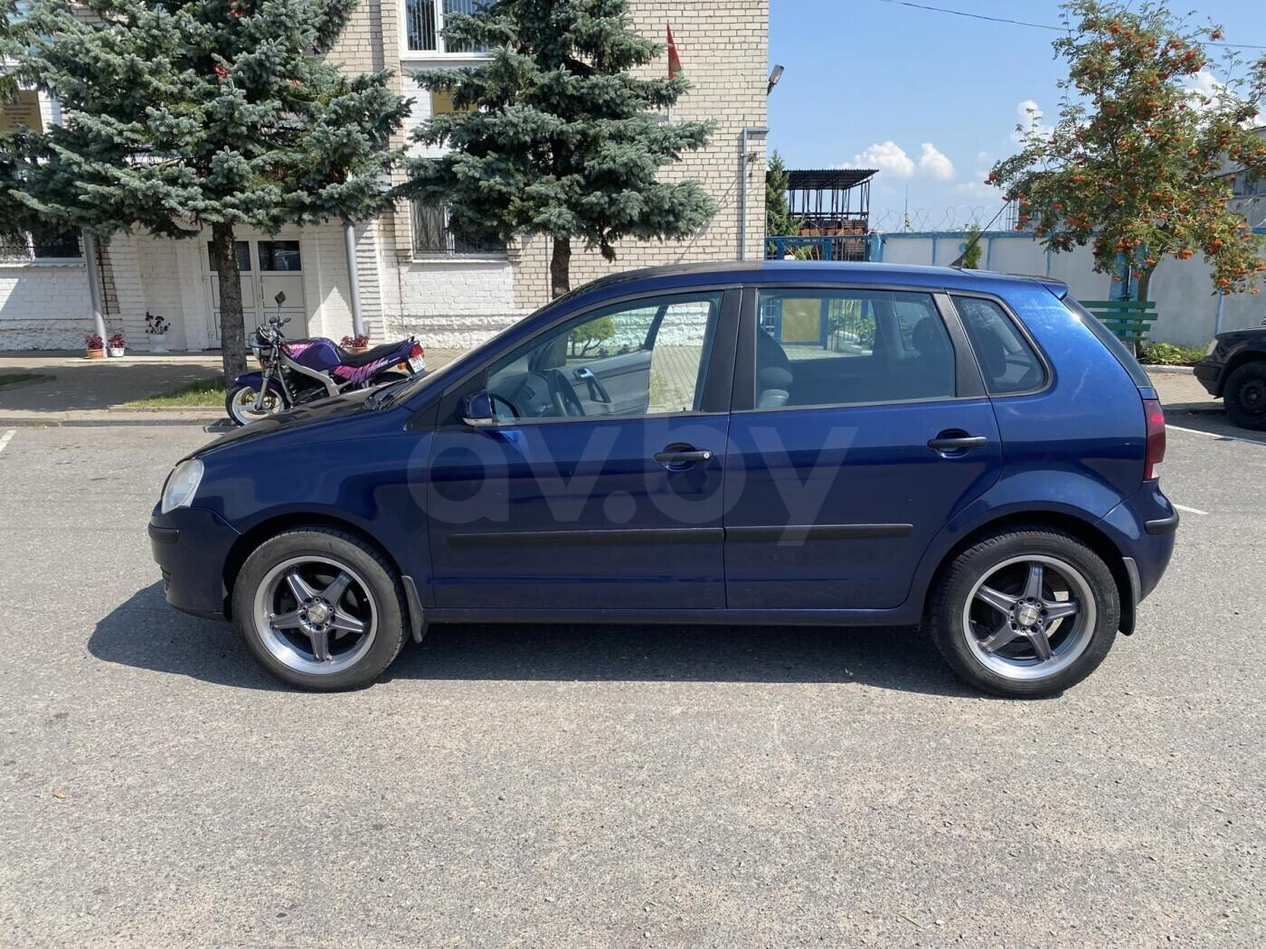Polo_2005-2009: (127, 257, 1190, 712)
